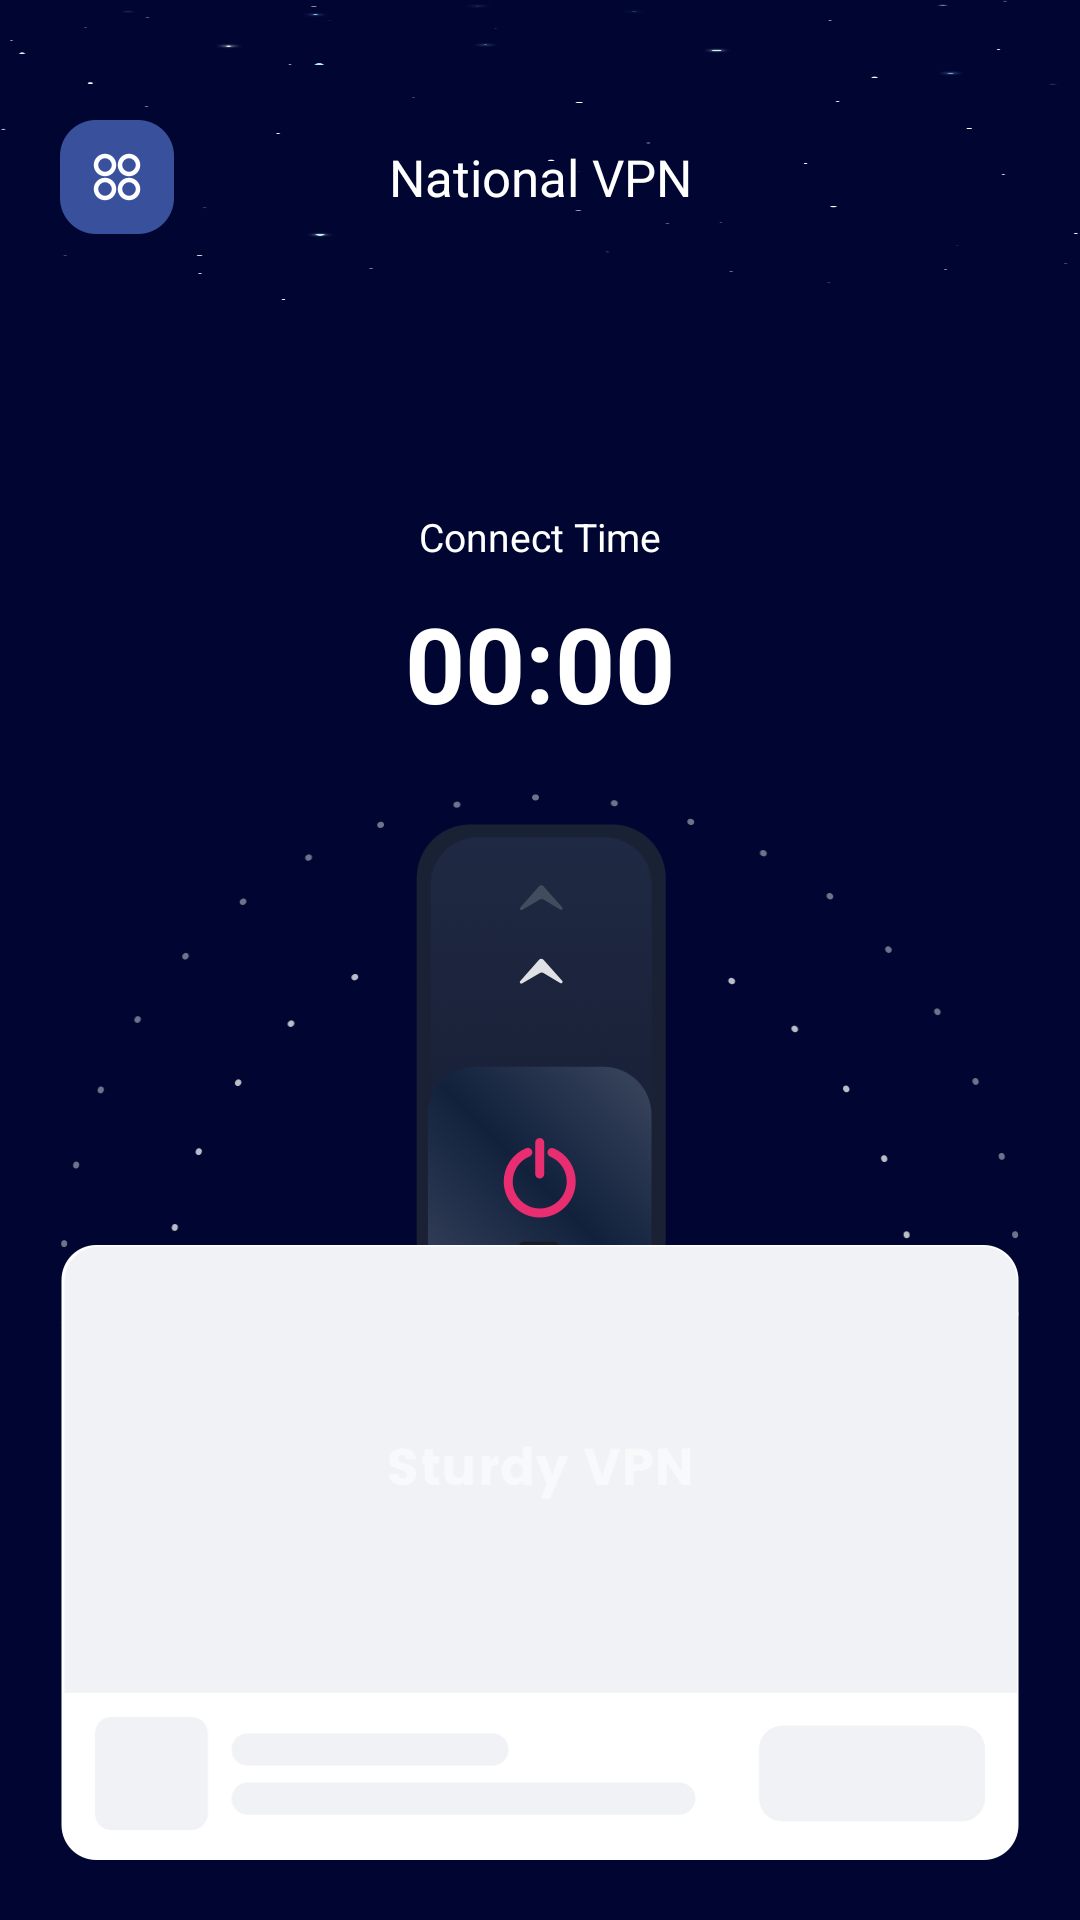

Icons on this 1080 × 1920 Android screen, each with the point to tap as (x=x, y=y):
home connect animation: (x=541, y=934)
home connect status iv: (x=540, y=1180)
home setting src: (x=117, y=177)
